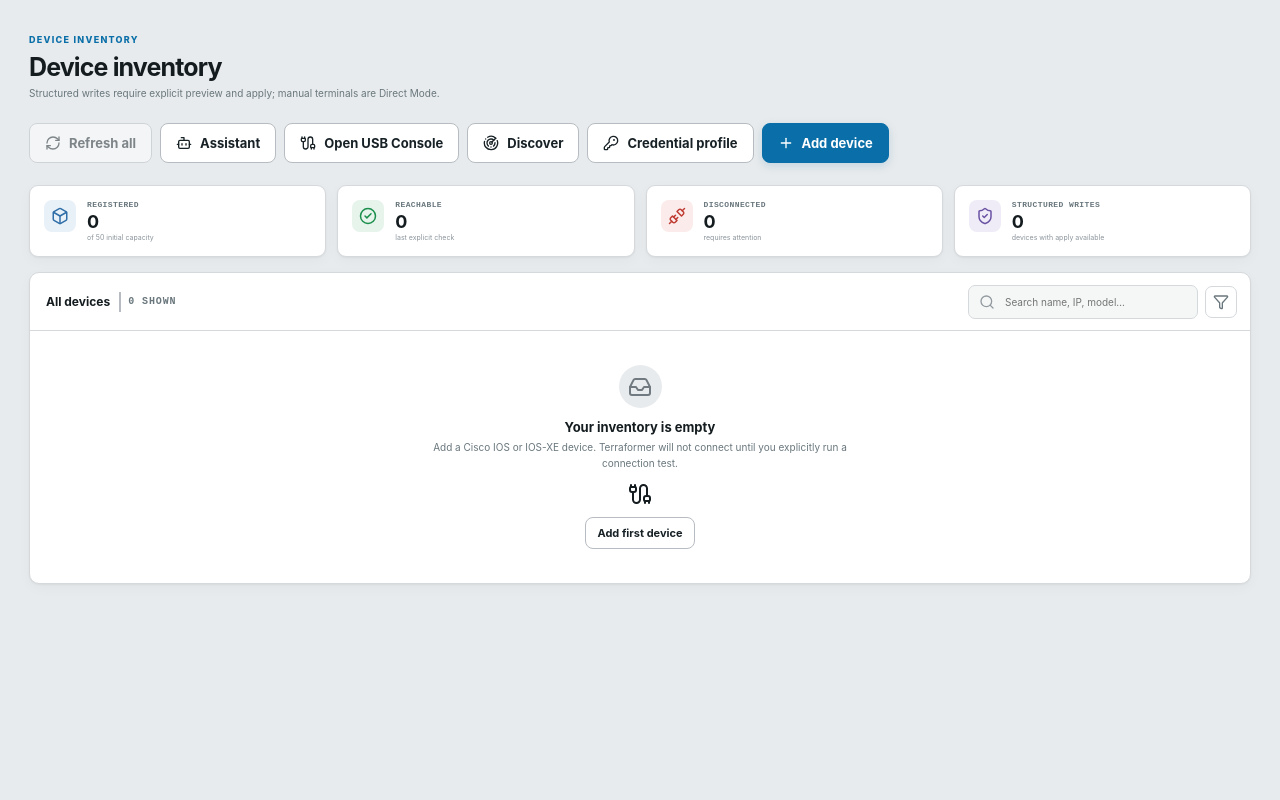
it: InventoryPage credential profile management › shows an empty state and offers to create the first profile
Click the button "Credential profile".
click(670, 143)  # box [588,123,754,163]
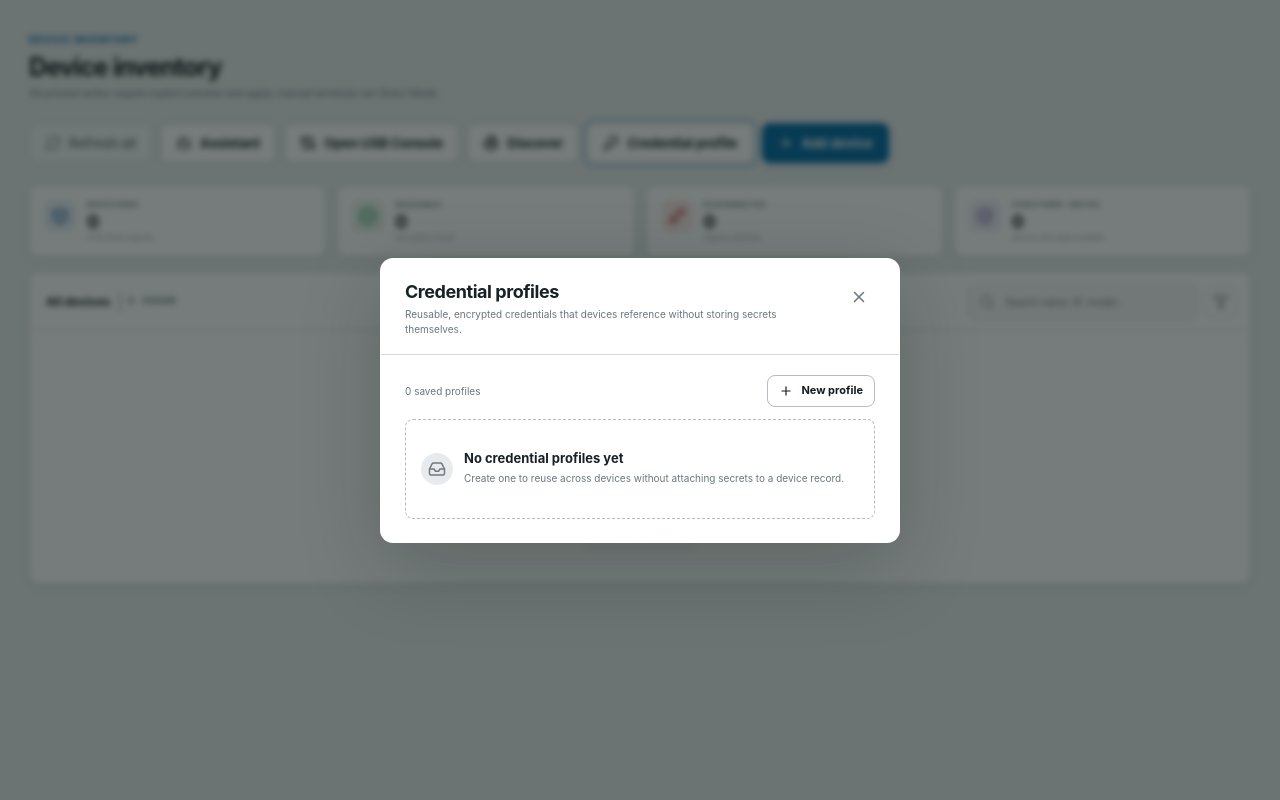
Now the heading "No credential profiles yet" is shown, box [464,450,624,466]
